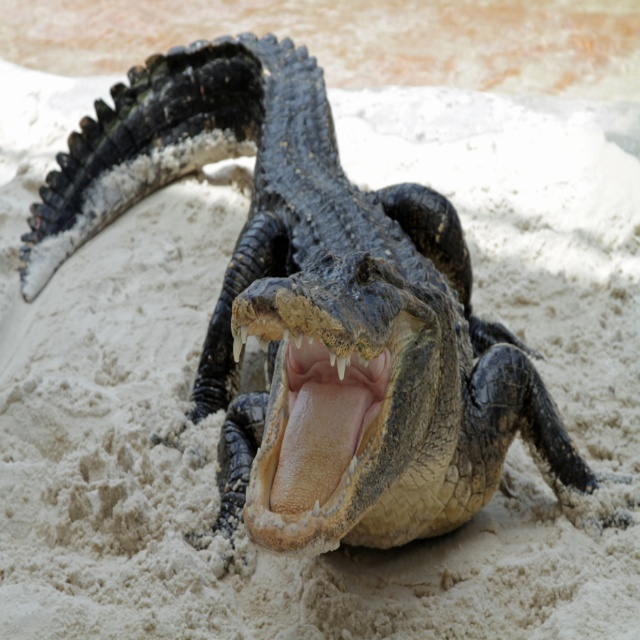Crocodile: (14, 31, 640, 579)
